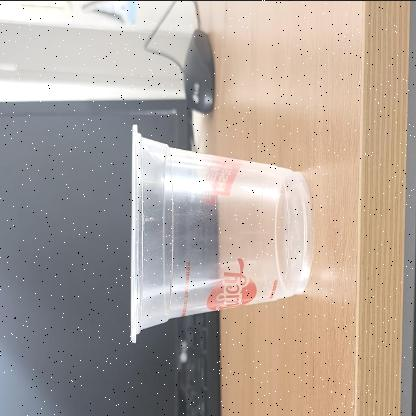Others: (128, 121, 310, 343)
